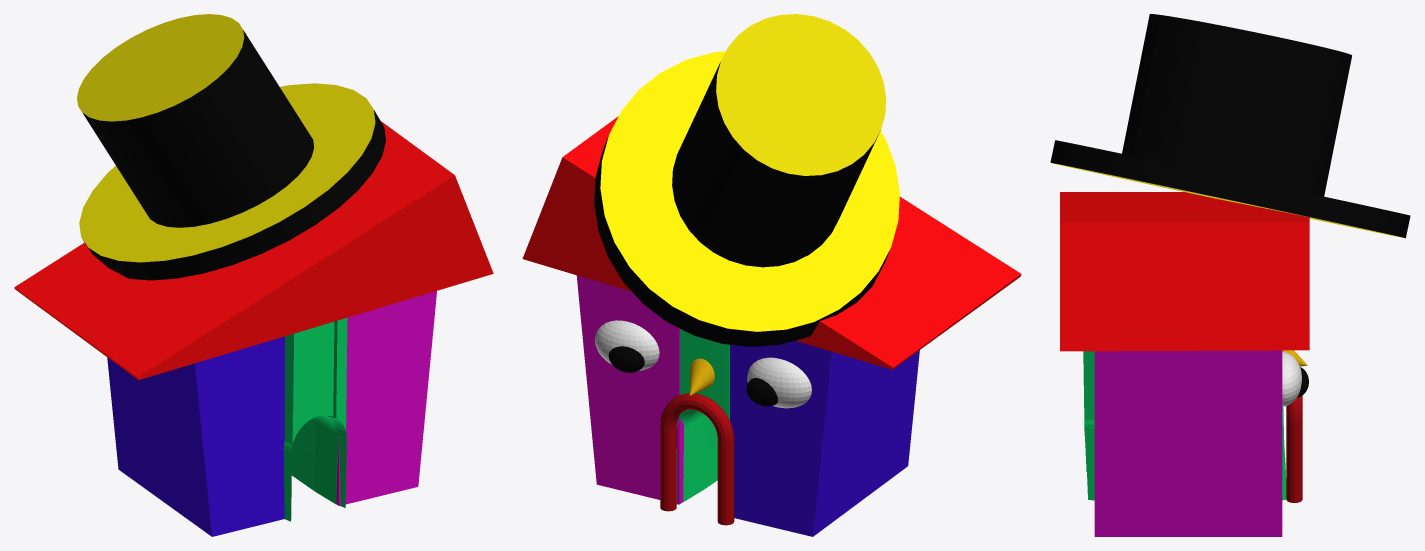
File: funny house (5).fbx
The picture shows the model from 3 angles, left to right: view 1: azimuth 30°, elevation 25°; view 2: azimuth 150°, elevation 25°; view 3: azimuth 270°, elevation 25°; orthographic projection. The views are drawn at different scales.
Visible parts, largest first — view 1: 立方体.002, 円柱, 立方体.005, 円柱.001, 立方体.001, トーラス; view 2: 円柱, 円柱.001, 立方体.005, 立方体.002, 立方体.001, トーラス, トーラス.001, 球, 球.001, 球.003, 円錐, 球.002; view 3: 立方体.002, 立方体.001, 円柱, 円柱.001, トーラス, トーラス.001, 球.001.
Boxes of the visible parts, left/top/right/bottom form: 立方体.002: left=14, top=121, right=493, bottom=380; 円柱: left=77, top=14, right=313, bottom=227; 立方体.005: left=107, top=336, right=284, bottom=536; 円柱.001: left=79, top=83, right=385, bottom=280; 立方体.001: left=336, top=291, right=436, bottom=505; トーラス: left=283, top=317, right=347, bottom=521; 円柱: left=672, top=14, right=886, bottom=267; 円柱.001: left=594, top=51, right=899, bottom=346; 立方体.005: left=730, top=341, right=919, bottom=536; 立方体.002: left=522, top=116, right=1021, bottom=369; 立方体.001: left=576, top=275, right=684, bottom=504; トーラス: left=676, top=329, right=729, bottom=504; トーラス.001: left=660, top=393, right=734, bottom=525; 球: left=747, top=357, right=811, bottom=408; 球.001: left=595, top=320, right=659, bottom=370; 球.003: left=608, top=346, right=644, bottom=372; 円錐: left=690, top=358, right=714, bottom=395; 球.002: left=746, top=378, right=777, bottom=406; 立方体.002: left=1060, top=192, right=1309, bottom=351; 立方体.001: left=1094, top=350, right=1282, bottom=536; 円柱: left=1122, top=14, right=1351, bottom=196; 円柱.001: left=1050, top=140, right=1410, bottom=238; トーラス: left=1083, top=350, right=1286, bottom=500; トーラス.001: left=1286, top=395, right=1302, bottom=502; 球.001: left=1282, top=351, right=1301, bottom=406.
Bounding box in the file's own units: 1291 × 1553 × 1114.
